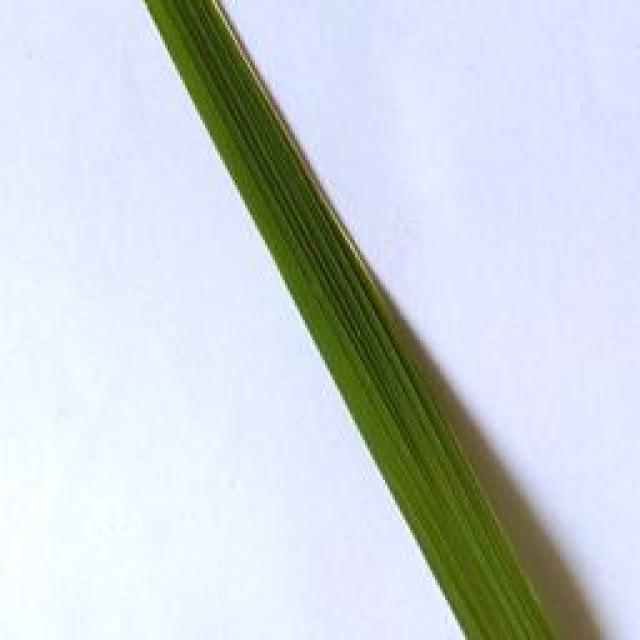Healthy-Plant: (143, 0, 556, 640)
